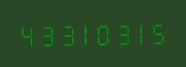five: (150, 18, 168, 45)
four: (17, 21, 35, 48)
one: (74, 20, 92, 47), (131, 19, 149, 46)
three: (36, 20, 54, 47), (55, 20, 73, 47), (112, 19, 130, 46)
zero: (93, 19, 111, 46)
